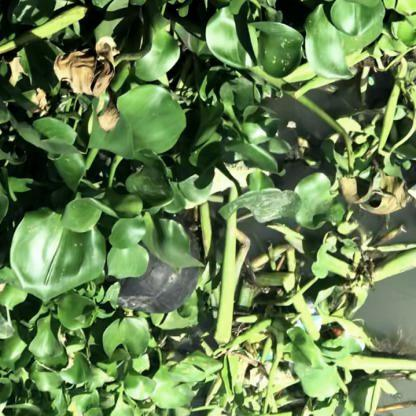Trash: (114, 226, 203, 319)
